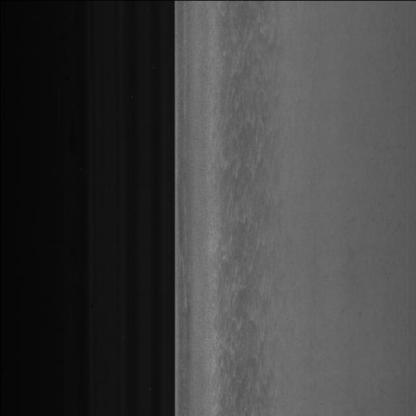silk_spot: (216, 20, 290, 388)
